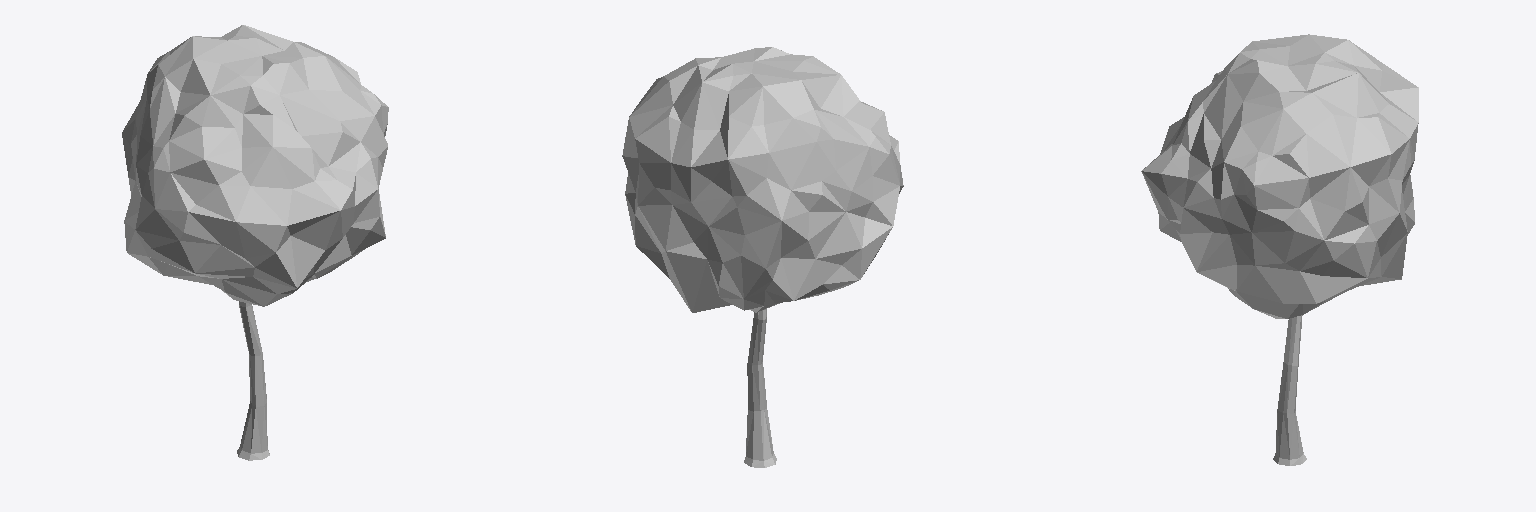
Rendered from Tree_1.obj.
3 views of the same model, side by side, from view 1: azimuth 30°, elevation 25°; view 2: azimuth 150°, elevation 25°; view 3: azimuth 270°, elevation 25° (orthographic).
Parts seen in each view (by area): view 1: Tree.1; view 2: Tree.1; view 3: Tree.1.
Boxes of the visible parts, box(x1,y1,x2,y2) form: Tree.1: box(122, 25, 388, 460); Tree.1: box(622, 47, 903, 467); Tree.1: box(1141, 34, 1418, 465).
Bounding box in the file's own units: 3.04 × 4.77 × 2.97.